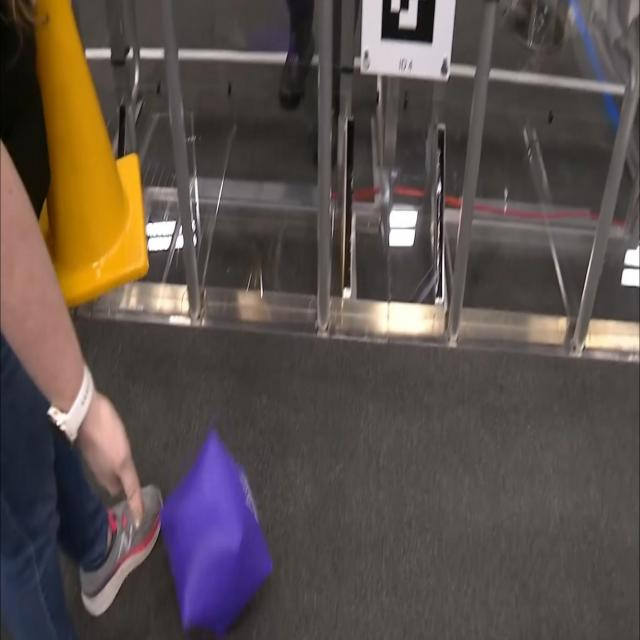frc_cone: (22, 0, 152, 308)
frc_cube: (160, 432, 274, 639)
